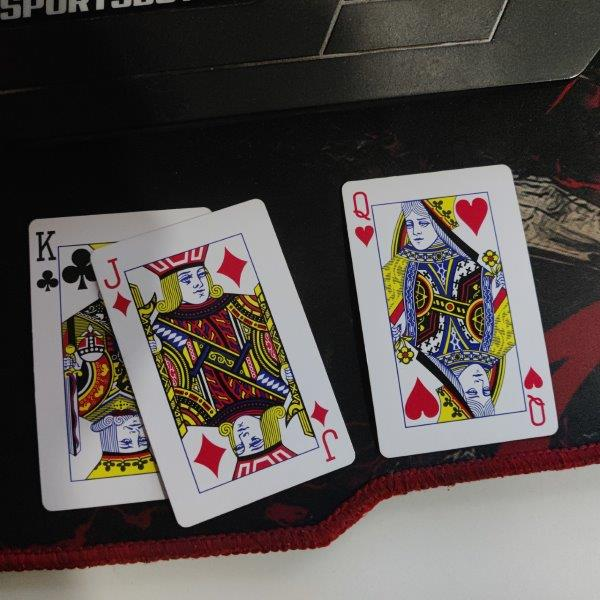Jack of Diamonds: (91, 198, 358, 529)
King of Clubs: (29, 207, 213, 511)
Queen of Hearts: (340, 164, 559, 458)
